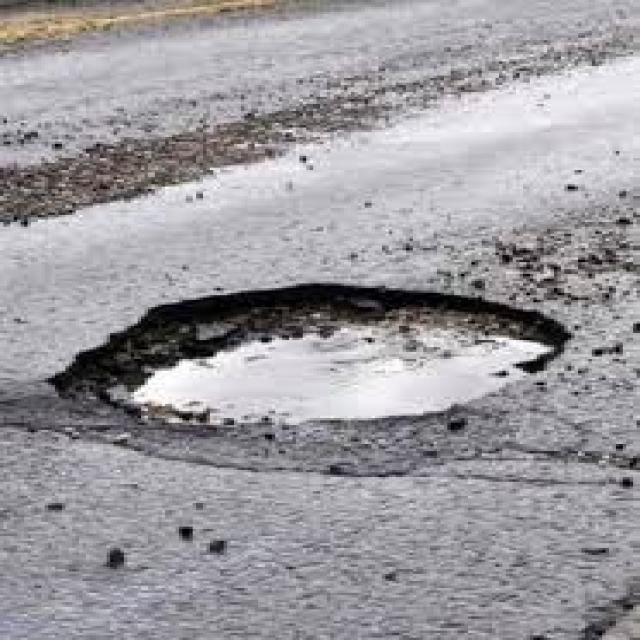p10: (52, 283, 564, 423)
